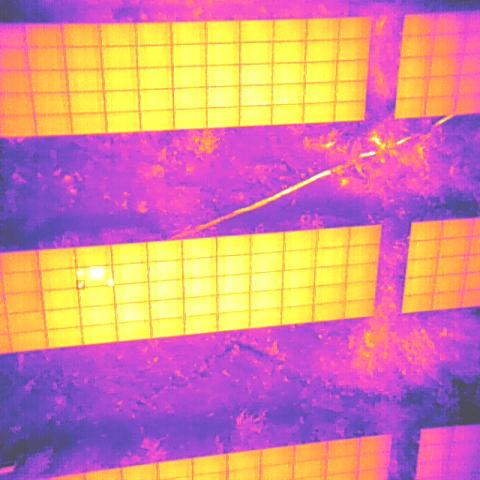fault: (90, 266, 104, 280), (76, 280, 85, 290), (76, 269, 83, 277), (108, 278, 114, 286)
